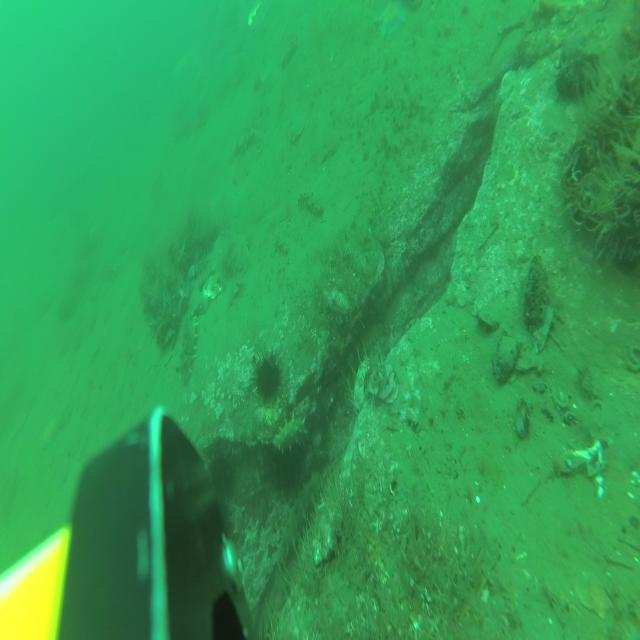echinus: (253, 349, 283, 407), (208, 449, 234, 504), (272, 448, 302, 495)
holothurian: (278, 472, 325, 568), (273, 410, 310, 453), (180, 312, 197, 386), (234, 128, 258, 156), (298, 189, 322, 217), (278, 38, 296, 68), (253, 74, 271, 95), (274, 234, 289, 256)
scallop: (578, 571, 612, 620), (230, 242, 249, 276), (203, 276, 221, 302), (288, 120, 305, 144)
starfish: (37, 414, 60, 462), (377, 0, 405, 37)
